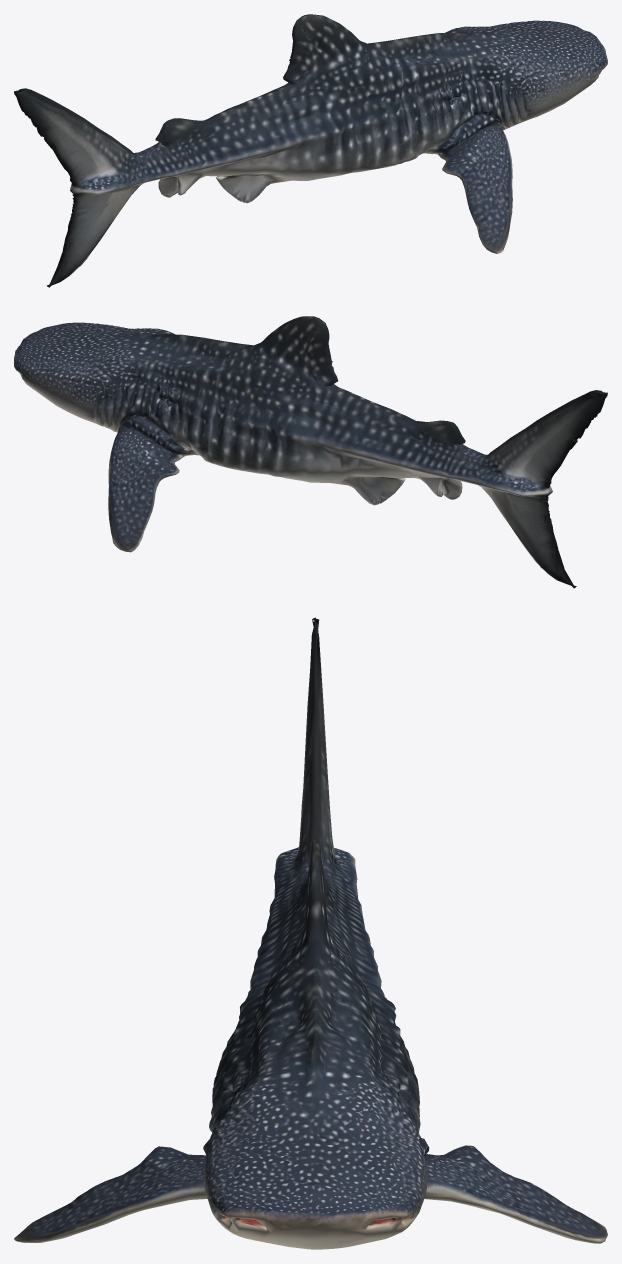
The model's file is whaleshark.glb.
3 renders of one model, top to bottom at view 1: azimuth 30°, elevation 25°; view 2: azimuth 150°, elevation 25°; view 3: azimuth 270°, elevation 25°, orthographic. The views are drawn at different scales.
Visible parts, largest first — view 1: tripo_node_9a524ec3-9e1a-4c92-af81-0b5c1d187a53; view 2: tripo_node_9a524ec3-9e1a-4c92-af81-0b5c1d187a53; view 3: tripo_node_9a524ec3-9e1a-4c92-af81-0b5c1d187a53.
Part boxes in pixels (x1,y1,x2,y2): tripo_node_9a524ec3-9e1a-4c92-af81-0b5c1d187a53: (14,14,607,287); tripo_node_9a524ec3-9e1a-4c92-af81-0b5c1d187a53: (14,316,607,588); tripo_node_9a524ec3-9e1a-4c92-af81-0b5c1d187a53: (14,617,607,1249).
Size of the model in its own units: 1 by 0.3432 by 0.544.
Materials: 1 (1 with a texture image).
